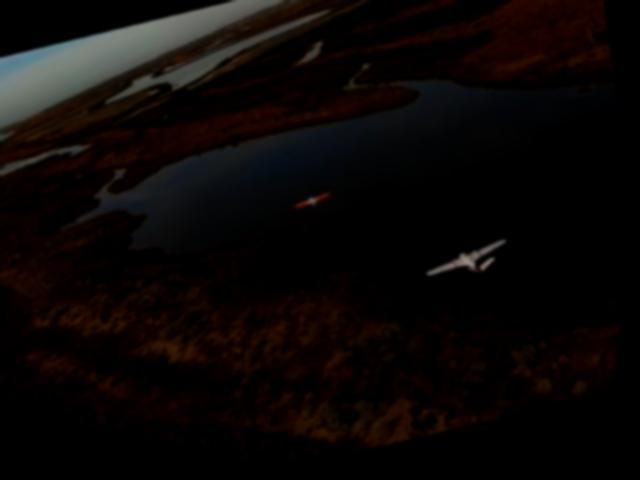uav: (419, 235, 523, 293), (289, 188, 340, 216)
